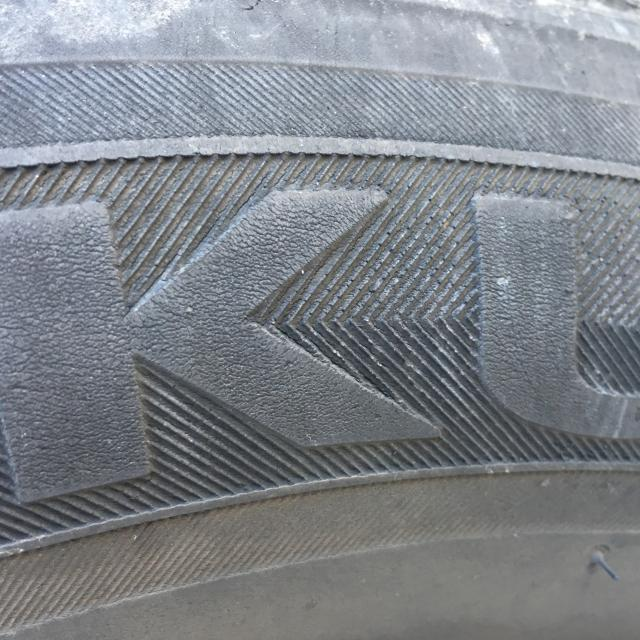Cracks: (0, 111, 640, 513)
Non-defective: (0, 528, 640, 640)
